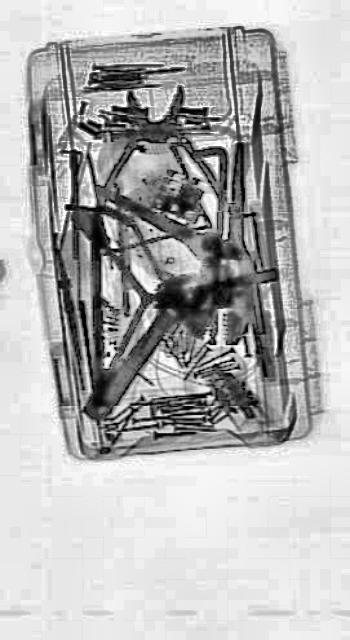Pliers: (86, 80, 228, 226)
